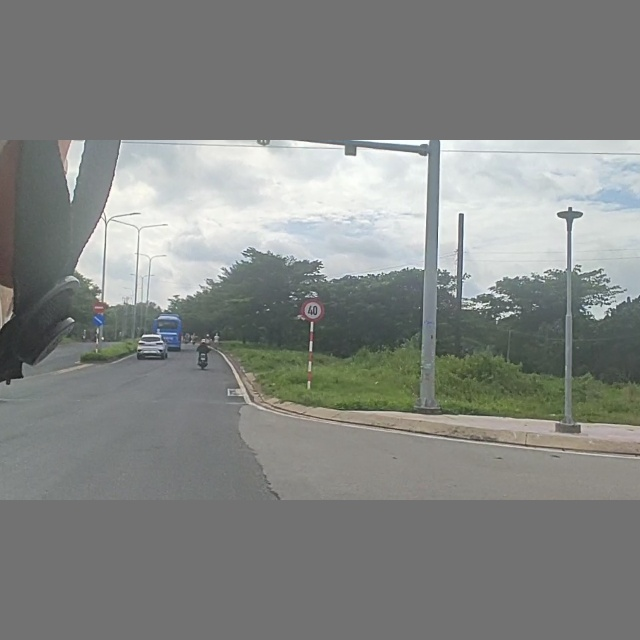P.102: (93, 300, 107, 313)
P.127*40: (301, 298, 325, 323)
R.302a: (90, 313, 105, 326)
